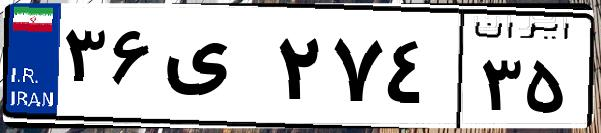2: (270, 28, 330, 110)
3: (57, 26, 110, 100), (475, 38, 525, 113)
4: (385, 28, 445, 110)
5: (525, 38, 570, 115)
6: (110, 28, 158, 98)
7: (330, 28, 385, 110)
ی: (158, 20, 270, 120)
